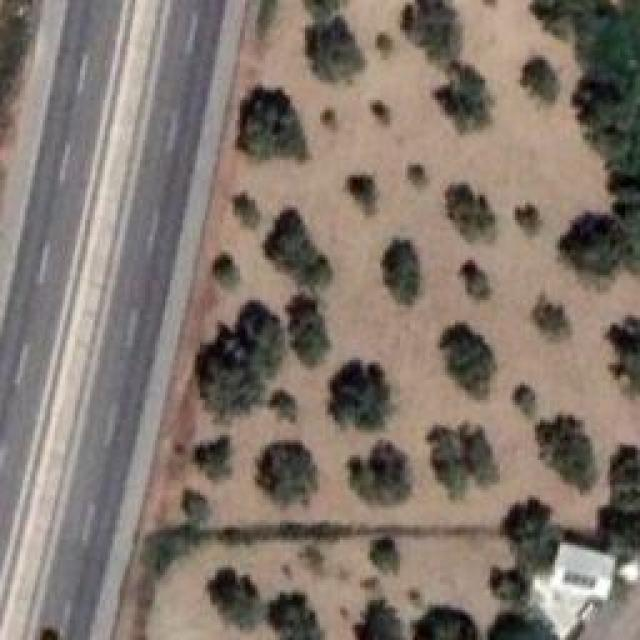Tree: (193, 328, 265, 419), (345, 440, 420, 512), (265, 210, 331, 291), (540, 410, 599, 495), (238, 88, 308, 159), (428, 423, 495, 491), (442, 315, 499, 393), (560, 205, 619, 279), (330, 360, 391, 430), (405, 0, 467, 67), (240, 298, 296, 370), (432, 65, 491, 132), (207, 568, 266, 634), (258, 443, 319, 506), (307, 23, 364, 87), (292, 288, 339, 363), (603, 310, 640, 396), (503, 493, 551, 559), (378, 238, 426, 302), (447, 185, 495, 242), (597, 502, 640, 562), (273, 590, 323, 640), (413, 600, 473, 639), (527, 295, 572, 342), (610, 440, 639, 511), (357, 597, 404, 640), (523, 55, 565, 102), (198, 440, 238, 486), (488, 565, 529, 606), (177, 485, 211, 530), (460, 258, 496, 299), (265, 383, 302, 422), (368, 530, 398, 577), (232, 193, 260, 230), (513, 203, 541, 239), (350, 175, 373, 215), (213, 252, 239, 287), (370, 95, 397, 126), (510, 384, 537, 414), (318, 108, 342, 138), (373, 30, 395, 59), (407, 165, 425, 188)
